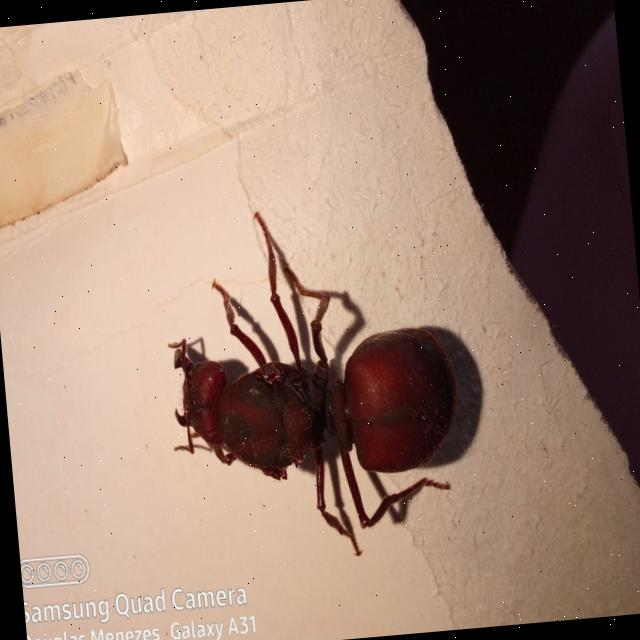Alive-Female-Dealate: (154, 195, 470, 572)
